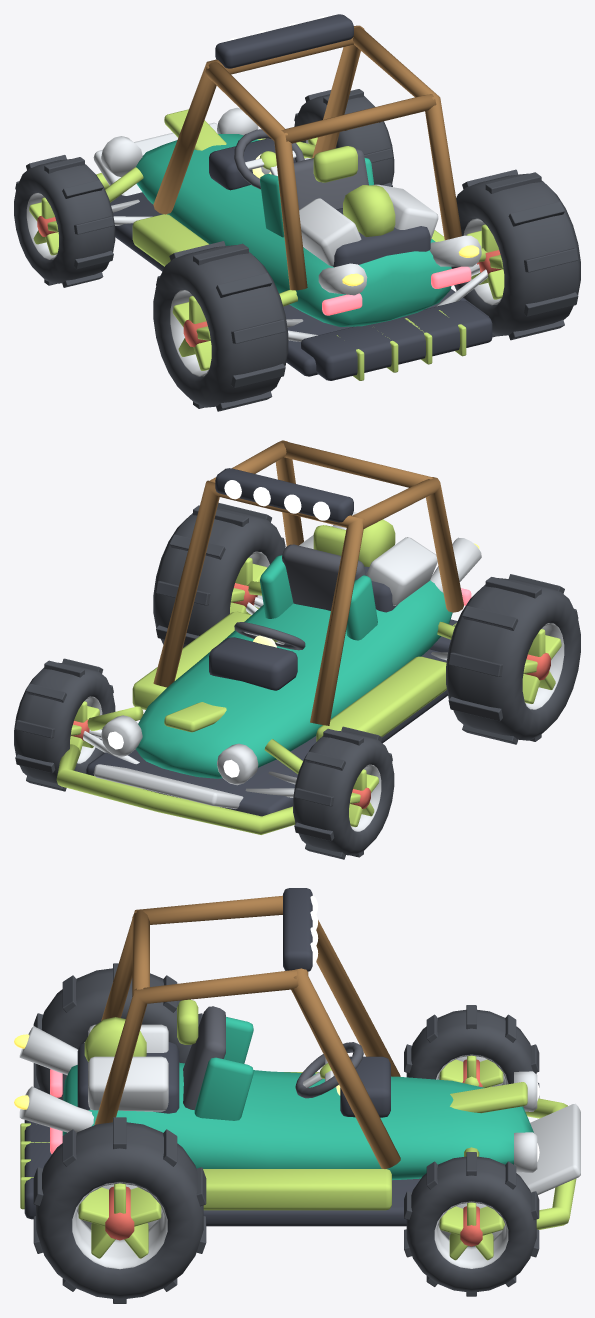
The model's file is raiz_veloz.glb.
3 renders of one model, top to bottom at view 1: azimuth 30°, elevation 25°; view 2: azimuth 150°, elevation 25°; view 3: azimuth 270°, elevation 25°, orthographic. The views are drawn at different scales.
Visible parts, largest first — view 1: raiz-veloz_ChassisMesh, WheelRL_Mesh, WheelRR_Mesh, WheelFL_Mesh, WheelFR_Mesh, raiz-veloz_SteeringWheelMesh, ExhaustR_Mesh, ExhaustL_Mesh; view 2: raiz-veloz_ChassisMesh, WheelRL_Mesh, WheelFL_Mesh, WheelRR_Mesh, WheelFR_Mesh, ExhaustL_Mesh, raiz-veloz_SteeringWheelMesh; view 3: raiz-veloz_ChassisMesh, WheelRR_Mesh, WheelFR_Mesh, WheelFL_Mesh, WheelRL_Mesh, ExhaustR_Mesh, ExhaustL_Mesh, raiz-veloz_SteeringWheelMesh.
Boxes of the visible parts, box(x1,y1,x2,y2) form: raiz-veloz_ChassisMesh: box(93, 14, 492, 380); WheelRL_Mesh: box(153, 241, 288, 411); WheelRR_Mesh: box(451, 169, 580, 340); WheelFL_Mesh: box(14, 155, 115, 287); WheelFR_Mesh: box(294, 89, 394, 186); raiz-veloz_SteeringWheelMesh: box(234, 129, 304, 189); ExhaustR_Mesh: box(430, 235, 481, 266); ExhaustL_Mesh: box(318, 263, 367, 295); raiz-veloz_ChassisMesh: box(56, 440, 471, 834); WheelRL_Mesh: box(446, 574, 580, 744); WheelFL_Mesh: box(293, 726, 394, 859); WheelRR_Mesh: box(153, 502, 285, 647); WheelFR_Mesh: box(14, 658, 115, 791); ExhaustL_Mesh: box(430, 537, 481, 592); raiz-veloz_SteeringWheelMesh: box(234, 622, 305, 650); raiz-veloz_ChassisMesh: box(20, 888, 580, 1230); WheelRR_Mesh: box(33, 1117, 206, 1303); WheelFR_Mesh: box(404, 1152, 539, 1296); WheelFL_Mesh: box(404, 1005, 539, 1098); WheelRL_Mesh: box(33, 963, 202, 1100); ExhaustR_Mesh: box(14, 1086, 93, 1132); ExhaustL_Mesh: box(14, 1026, 77, 1075); raiz-veloz_SteeringWheelMesh: box(295, 1042, 363, 1098).
Bounding box in the file's own units: 2.12 × 1.53 × 2.68.
